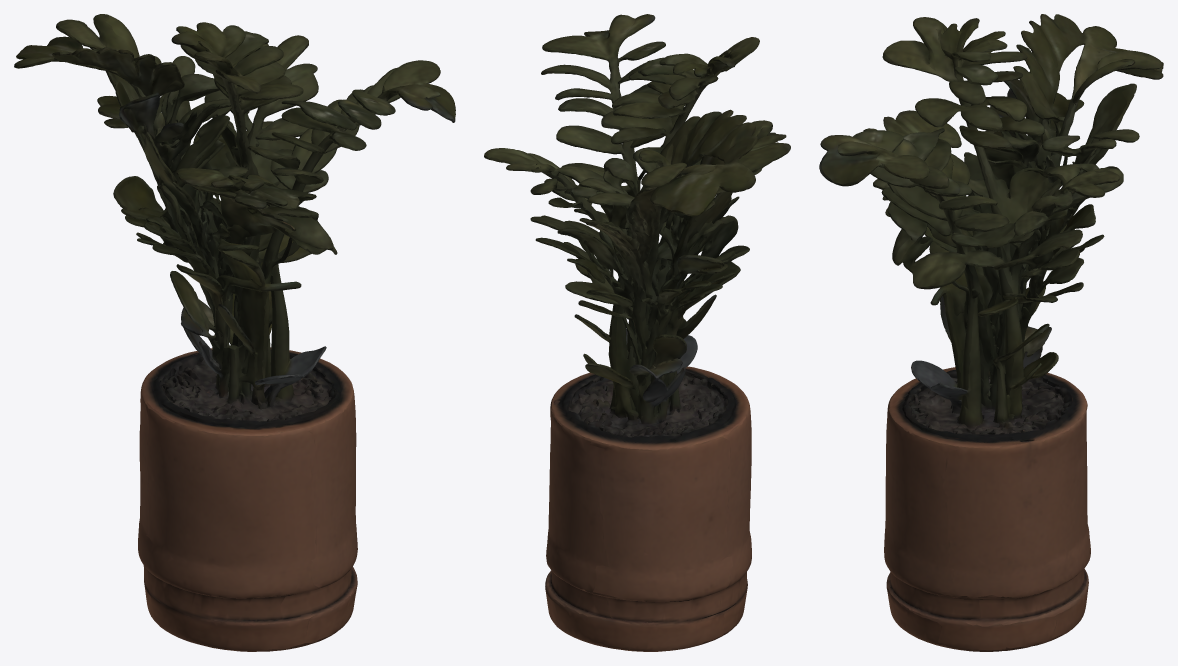
The model's file is item_17ba4fc2.glb.
3 renders of one model, left to right at view 1: azimuth 30°, elevation 25°; view 2: azimuth 150°, elevation 25°; view 3: azimuth 270°, elevation 25°, orthographic. The views are drawn at different scales.
Visible parts, largest first — view 1: world; view 2: world; view 3: world.
Part boxes in pixels (box(x1,y1,x2,y2)): world: box(14, 14, 455, 651); world: box(484, 14, 790, 651); world: box(819, 14, 1163, 651).
Bounding box in the file's own units: 0.4201 × 0.75 × 0.419.
Materials: 1 (1 with a texture image).
